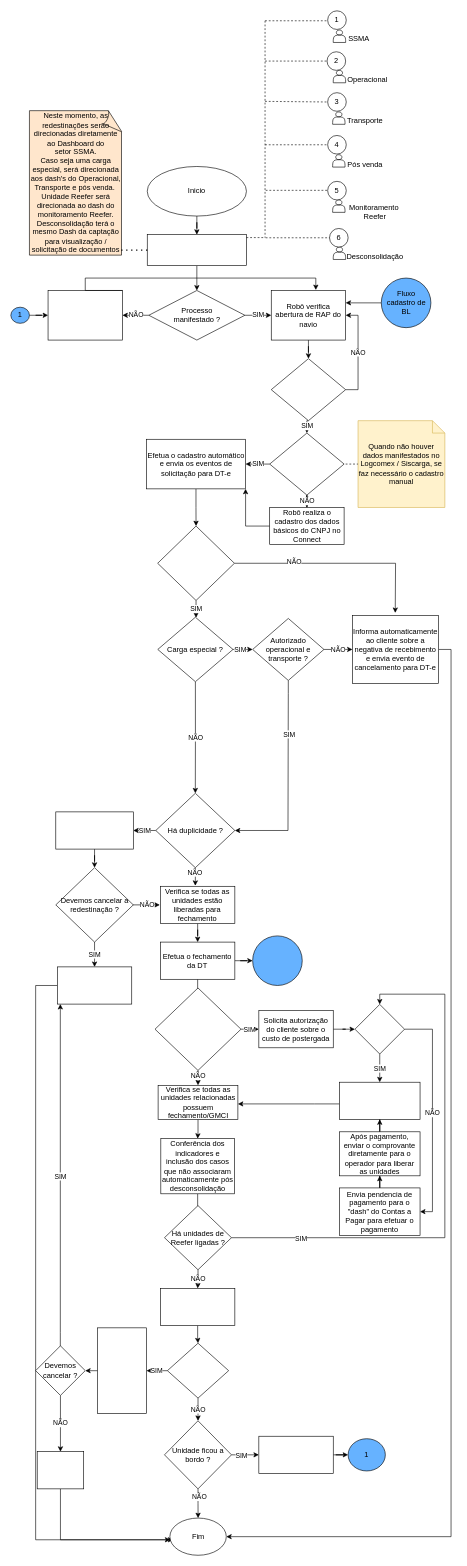
This 467x1566 diagram has some shape labels left out. Here are the shapes that lost their labels. From the top down, the centre of each, then its label:
point 196,250: Recebimento da redestinação via portal
point 84,315: Aguarda manifesto no Logcomex / Siscomex
point 308,389: Rap Disponível?
point 306,463: Importador possui cadastro?
point 195,562: Recebimento autorizado pelo SSMA?
point 94,830: Comercial/despachante acionado para análise
point 277,960: Vínculo de indicador
point 94,985: Efetua o cancelamento juntamente ao DT-e
point 197,1028: Redestinação recebida fora do horário de fechamento ?
point 379,1029: Processo faturado ?
point 379,1100: Valores disponíveis no dash do apoio para lançamento na GR
point 197,1307: Acompanha a entrada das unidades no recinto pelo dashboard
point 122,1370: Comunica o despachante/ comercial para decisão sobre a remoção da carga
point 198,1370: Bloqueio comercial no operador ?
point 60,1470: Solicita o desbloqueio junto ao operador
point 295,1454: Comunica o despachante e efetua o cancelamento da guia
